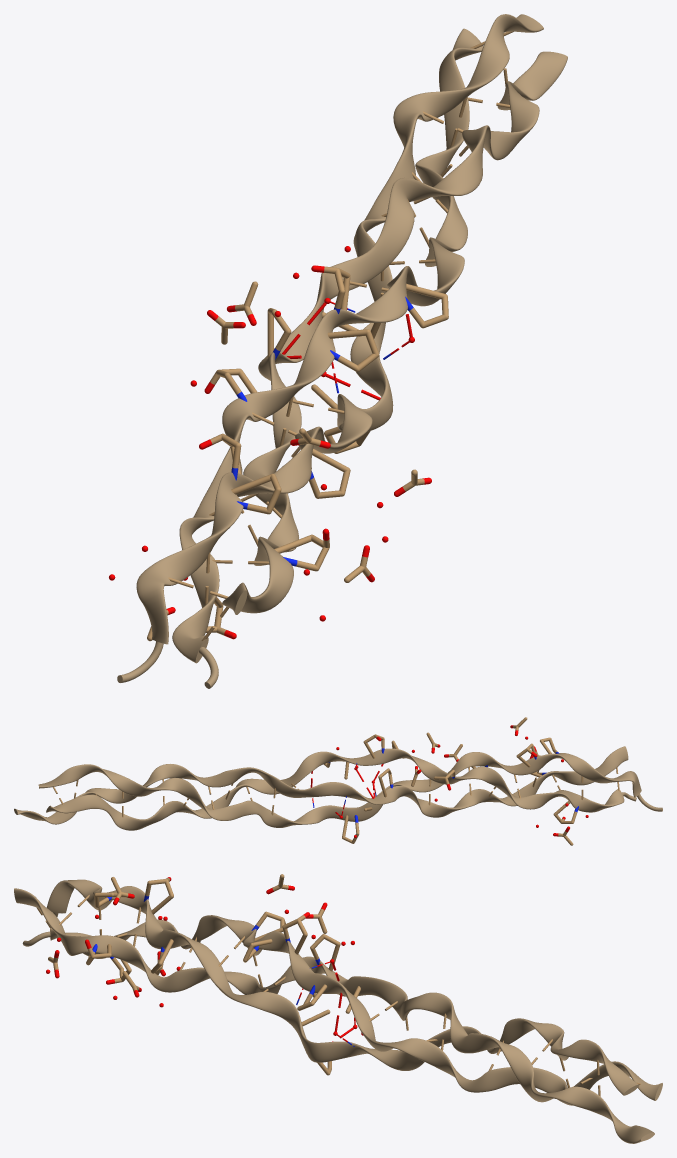
File: colageno.fbx
3 renders of one model, top to bottom at view 1: azimuth 30°, elevation 25°; view 2: azimuth 150°, elevation 25°; view 3: azimuth 270°, elevation 25°, orthographic. The views are drawn at different scales.
Visible parts, largest first — view 1: subnode_0; view 2: subnode_0; view 3: subnode_0.
Part boxes in pixels (x1,y1,x2,y2): subnode_0: (109, 14, 567, 688); subnode_0: (14, 717, 662, 845); subnode_0: (14, 874, 662, 1143).
Bounding box in the file's own units: 62.74 × 16.79 × 57.99.
